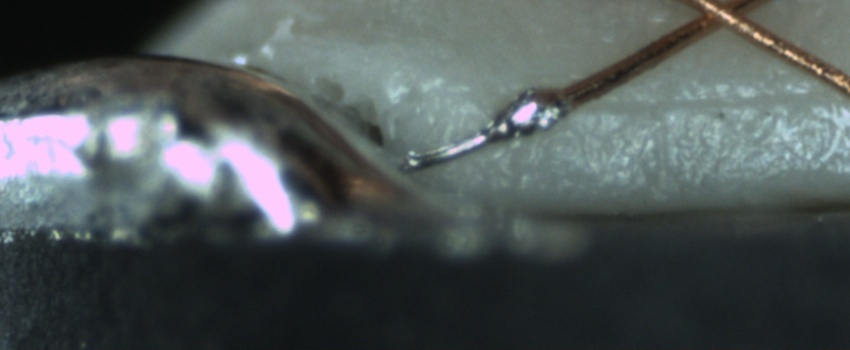CL: (682, 0, 767, 40)
DL: (578, 73, 850, 137)
TB: (496, 90, 564, 139)
TS: (404, 93, 569, 168)
TTCW: (399, 67, 605, 172)
